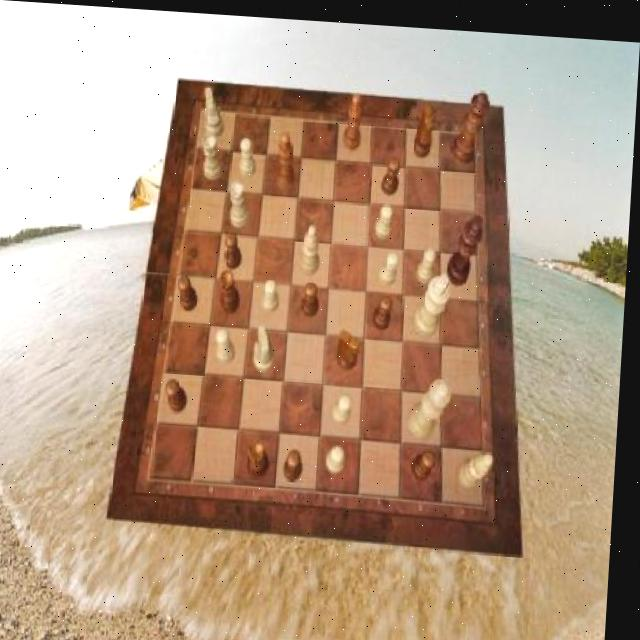bishop: (278, 127, 299, 183), (345, 88, 364, 147)
black-bishop: (450, 207, 487, 281)
black-king: (414, 100, 435, 154), (341, 325, 366, 366)
black-knight: (170, 376, 193, 411), (417, 443, 442, 475), (182, 272, 203, 309), (383, 151, 402, 190), (375, 290, 396, 325), (305, 277, 324, 314), (288, 444, 309, 477), (227, 230, 246, 266)
black-pawn: (452, 83, 493, 159)
black-queen: (221, 266, 246, 312), (252, 436, 277, 475)
black-rook: (463, 444, 501, 484), (302, 219, 325, 272)
white-bishop: (415, 266, 454, 333)
white-king: (205, 85, 228, 135), (257, 322, 280, 369)
white-knight: (219, 325, 241, 362), (382, 245, 404, 281), (419, 241, 440, 278), (240, 135, 259, 174), (265, 276, 284, 311), (337, 389, 357, 421), (378, 199, 396, 234), (332, 442, 352, 470)
white-pawn: (412, 374, 457, 436)
white-queen: (230, 179, 255, 226), (202, 131, 226, 178)
